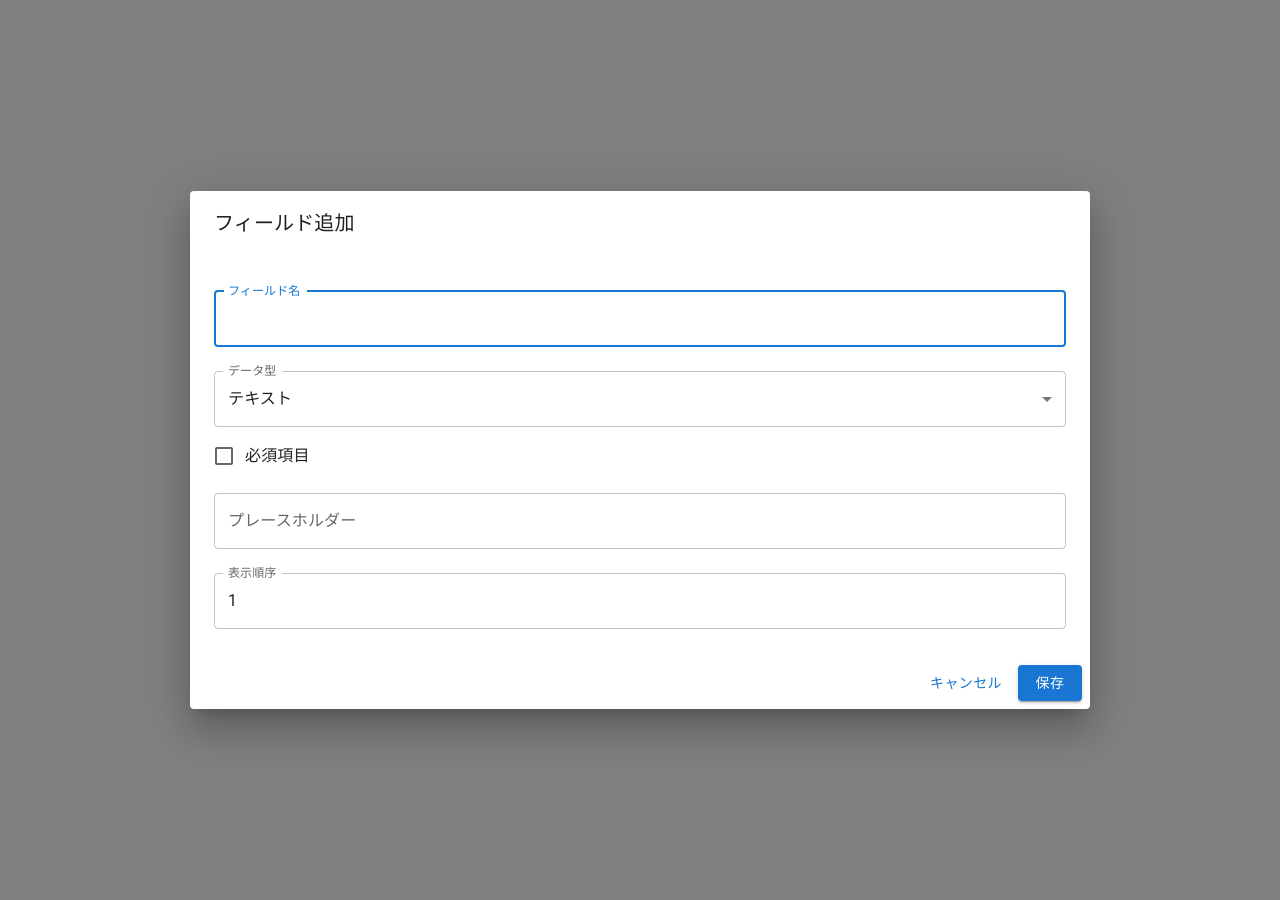
Scenario: FieldForm › should show options field for RADIO dataType
データ型をRADIOに変更 (最初のcomboboxがデータ型のSelect)
Click the dropdown: x=260, y=399 228,389 -> 292,408
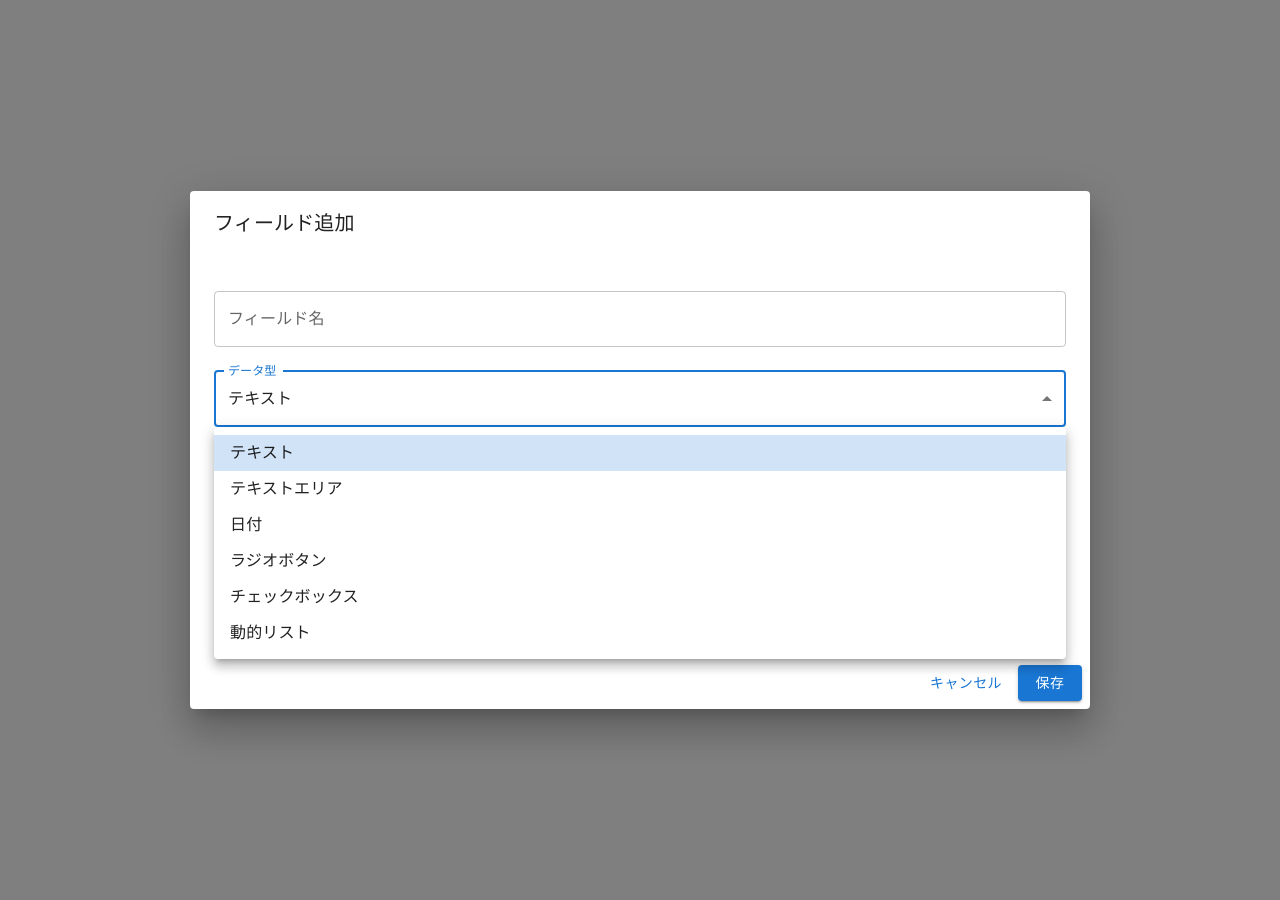
Click the option "ラジオボタン": x=278, y=560 230,551 -> 327,570
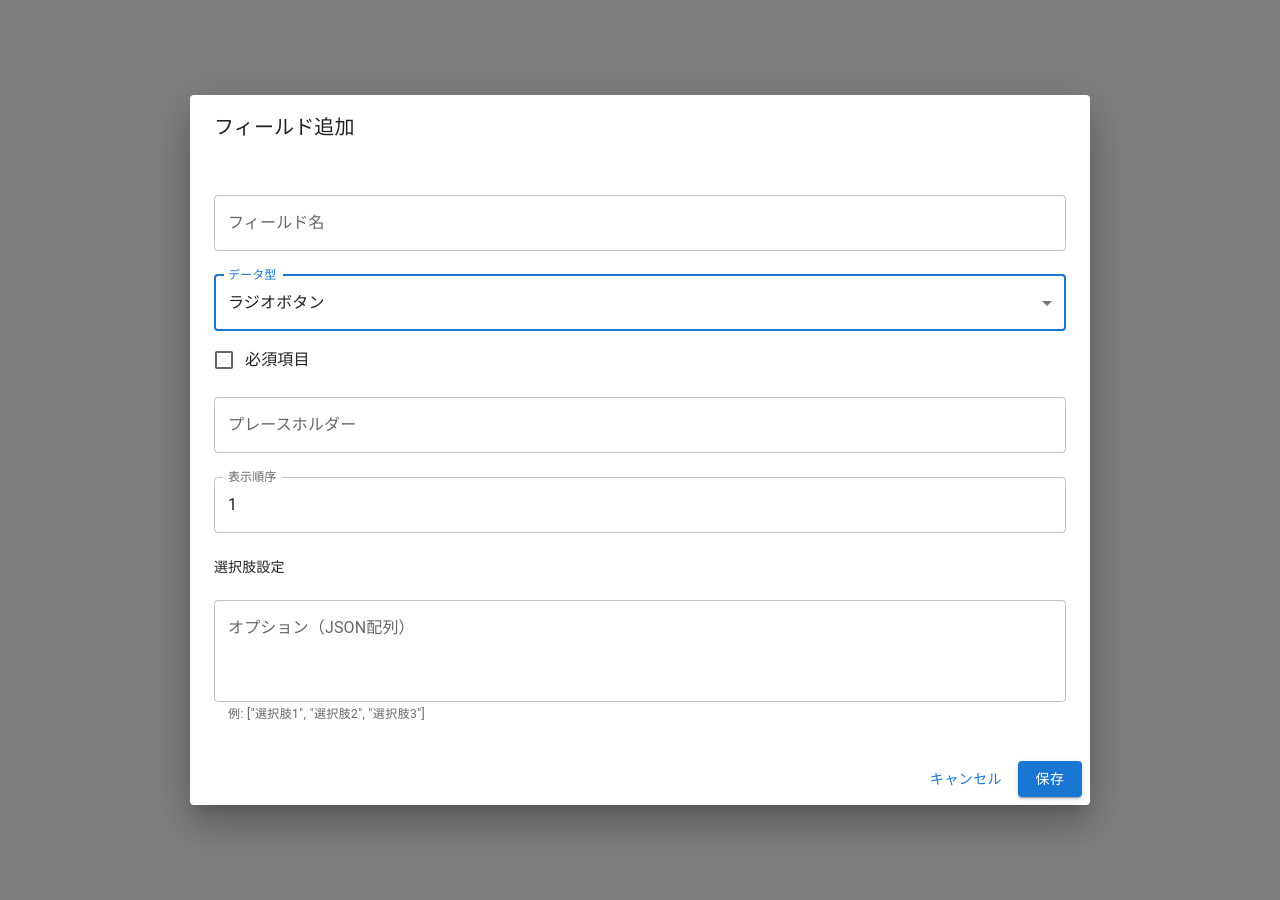
Check: the text box labelled "オプション（JSON配列）" is shown, box 228,616 -> 1052,685
